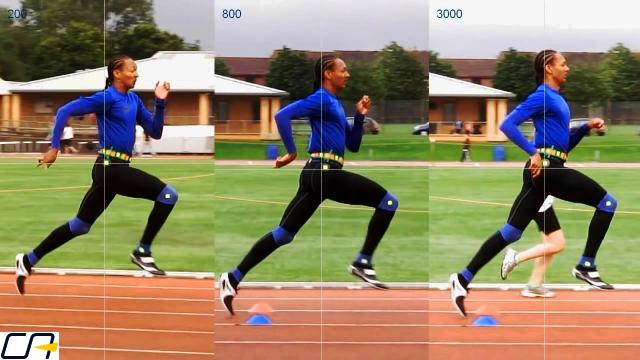berlari: (440, 44, 620, 318), (218, 51, 400, 316), (4, 46, 188, 302)
